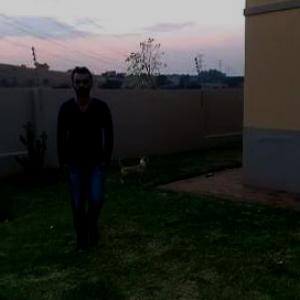follow: (59, 66, 116, 237)
